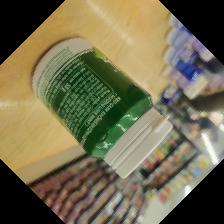Xylitol_green: (30, 35, 173, 180)
